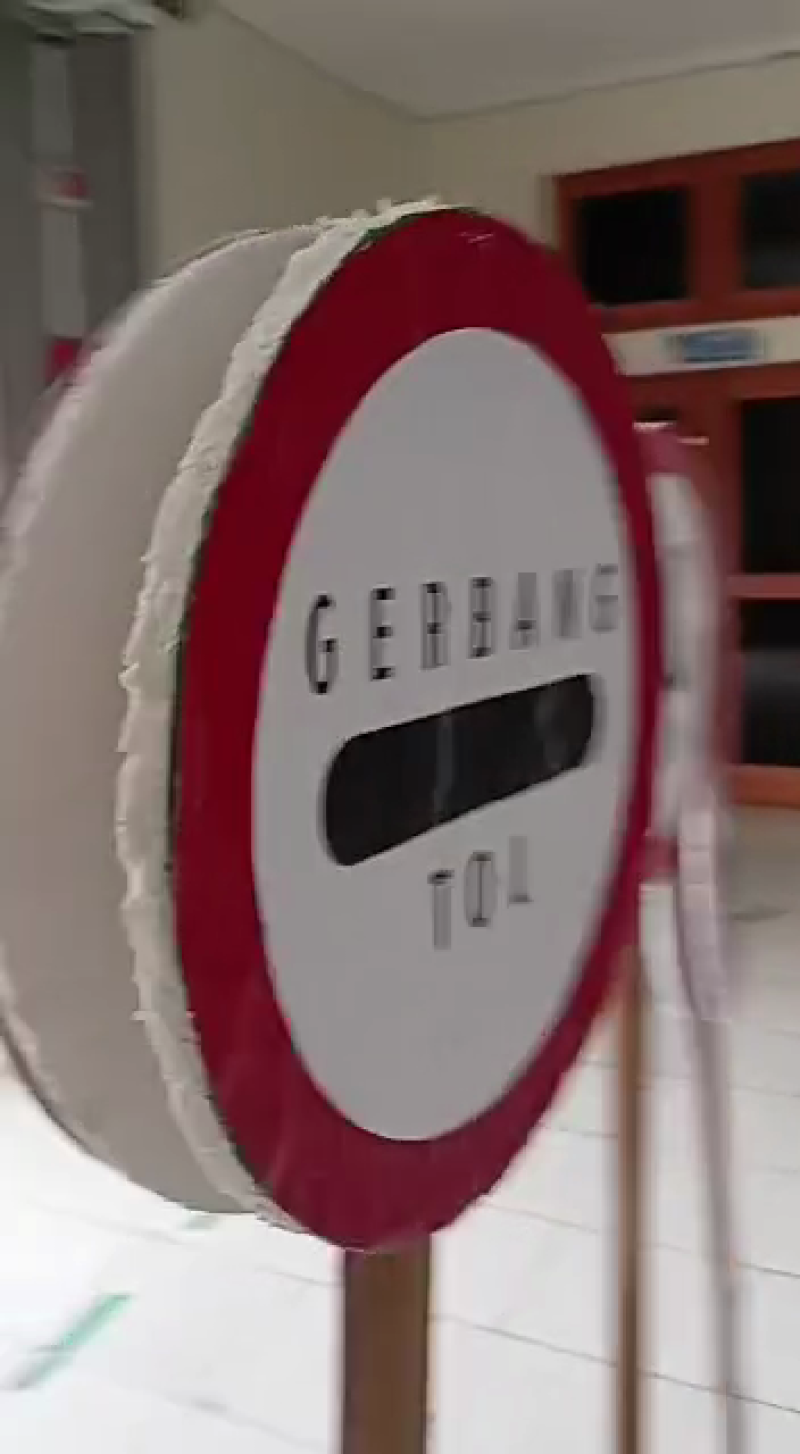gerbang tol: (134, 198, 671, 1253)
